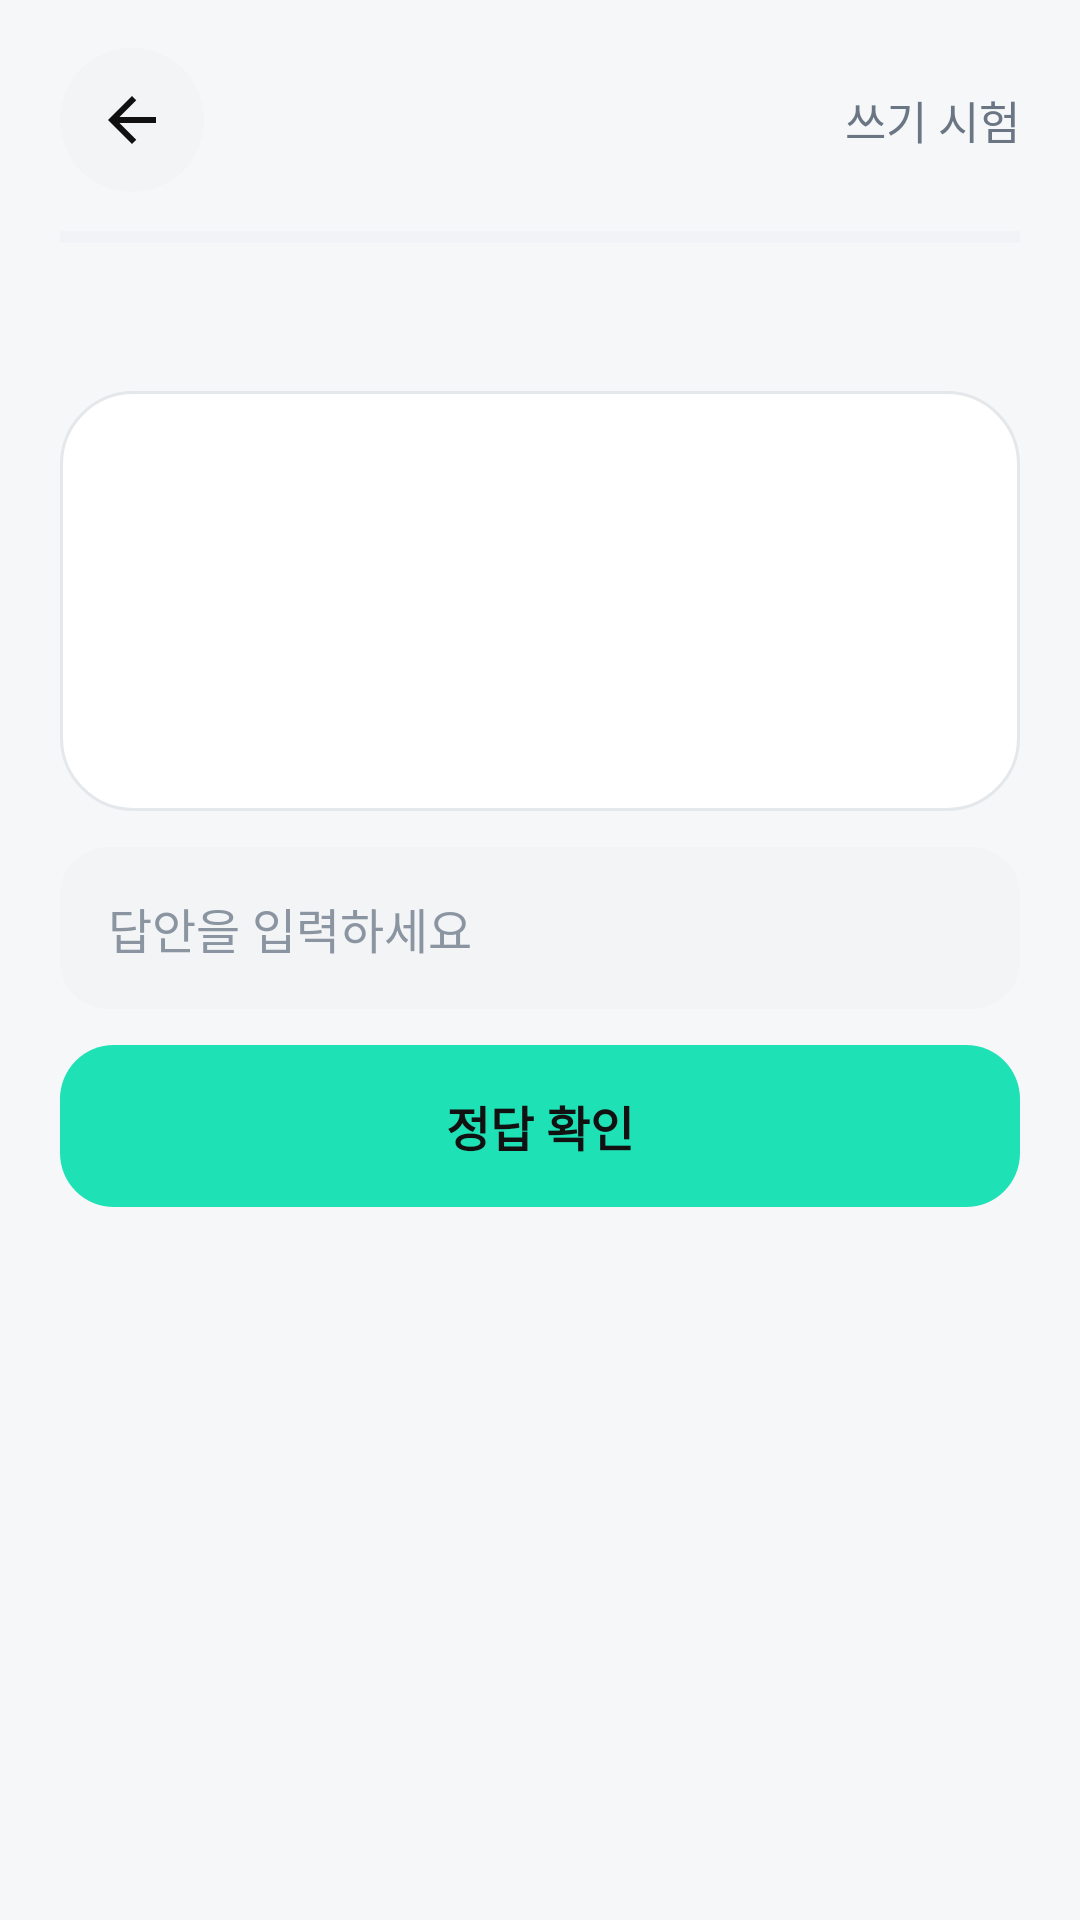

Icon bounding boxes for this 1080 × 1920 phone screenshot, format (x1,y1,x2,y2):
시험 중단 및 뒤로 가기: (108,96,156,144)
